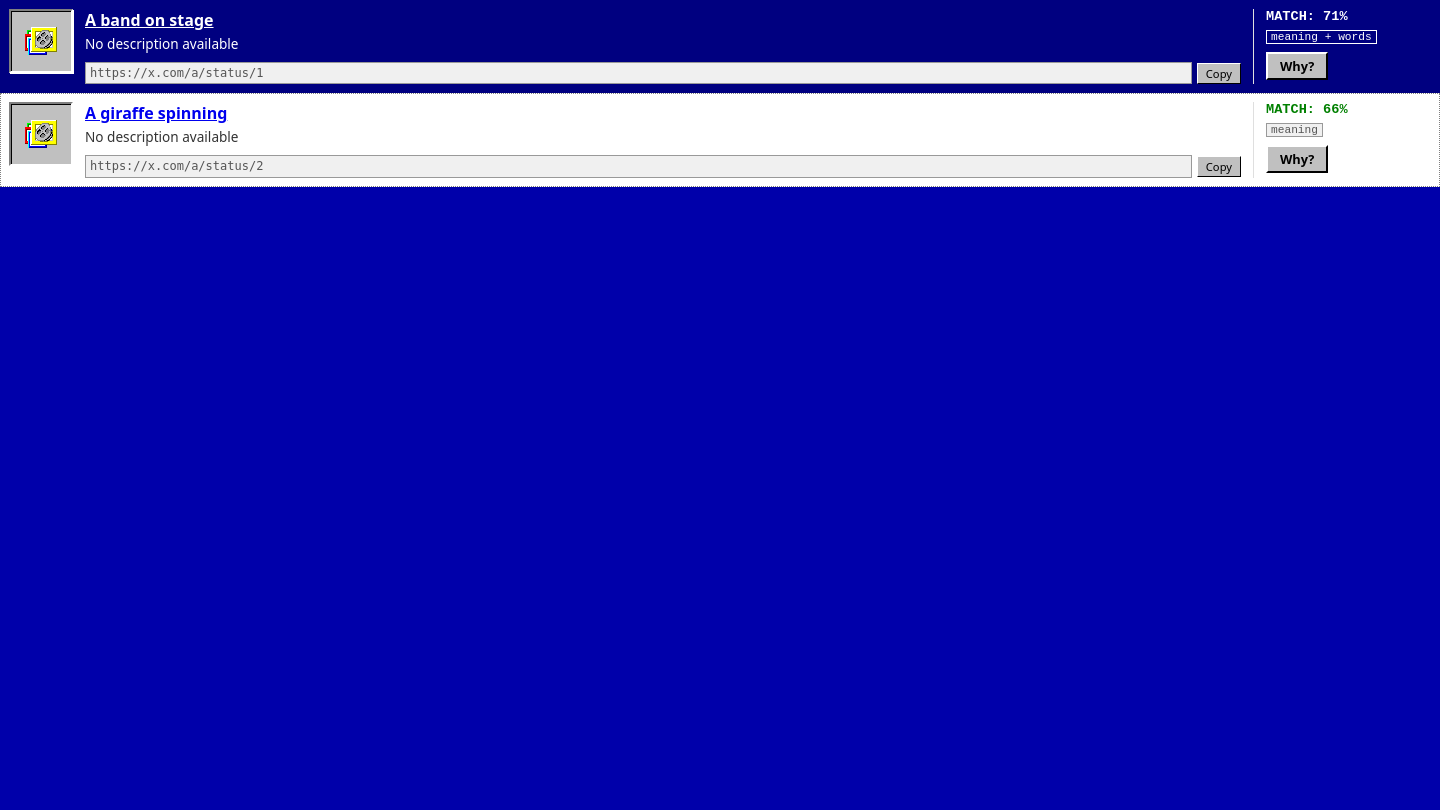
Test: the results of a search › should explain a result in a window of its own, in plain words
This screenshot has width=1440, height=810.
Step 1. Click the button "Why?" below "meaning + words" → (1297, 66), box [1266,52,1328,80]
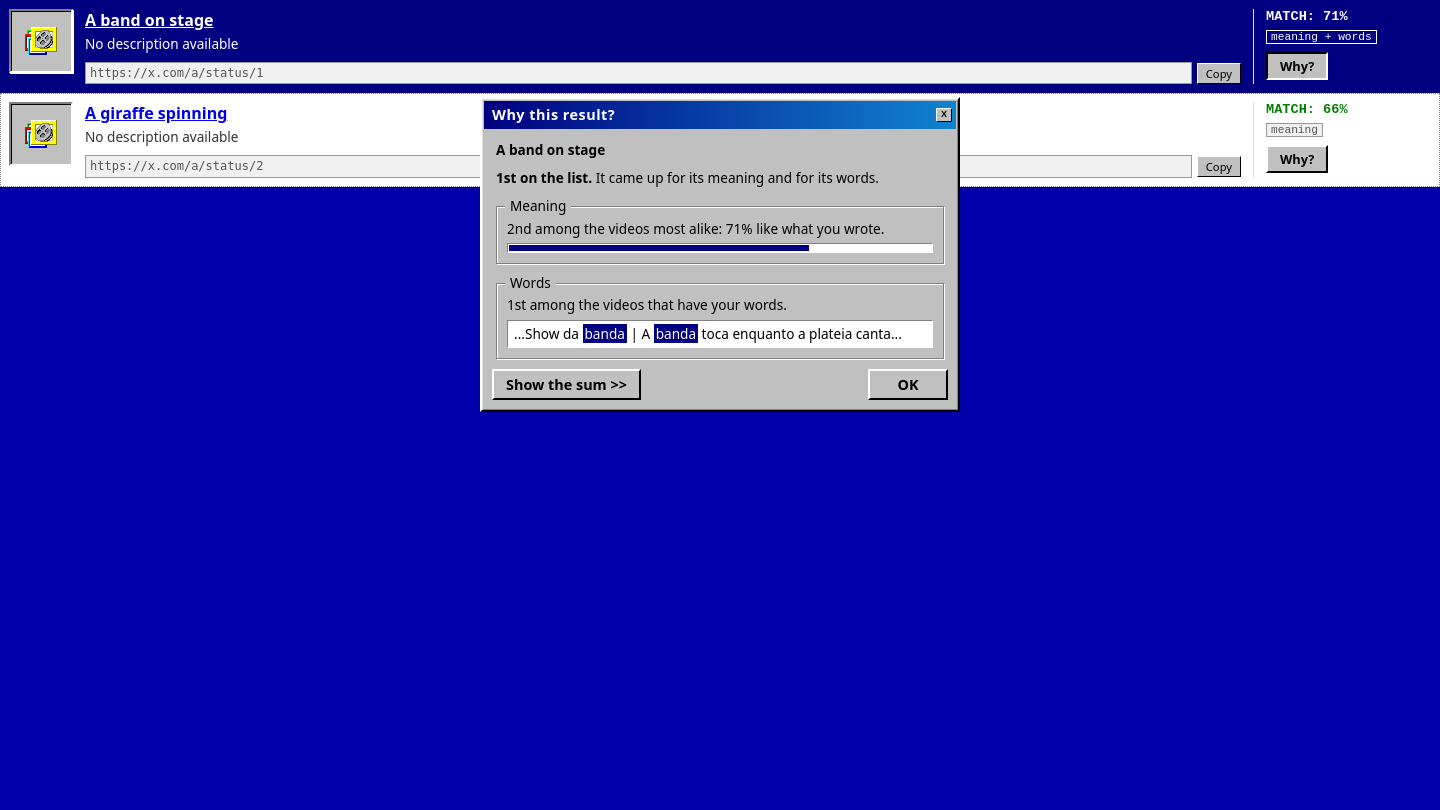
Check: the dialog "Why this result?" shows "A band on stage", box [496,140,605,159]
Check: the dialog "Why this result?" shows "1st on the list. It came up for its meaning and for its words.", box [480,97,960,412]
Check: the element "Meaning" shows "2nd among the videos most alike: 71% like what you wrote.", box [507,219,884,238]
